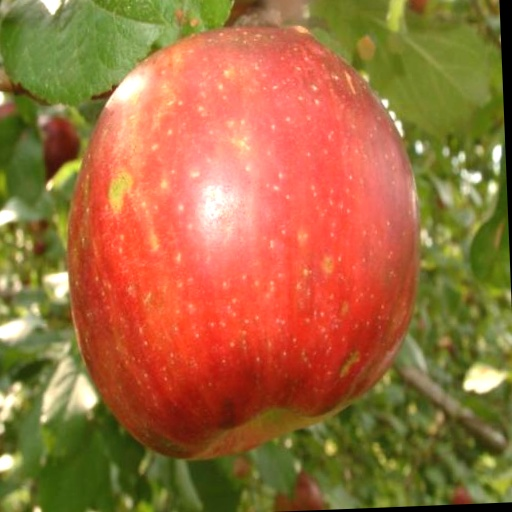fruit: (68, 28, 419, 458), (41, 117, 78, 179), (293, 473, 322, 510), (0, 101, 15, 130), (231, 457, 250, 479), (273, 495, 297, 511), (450, 487, 472, 504)
